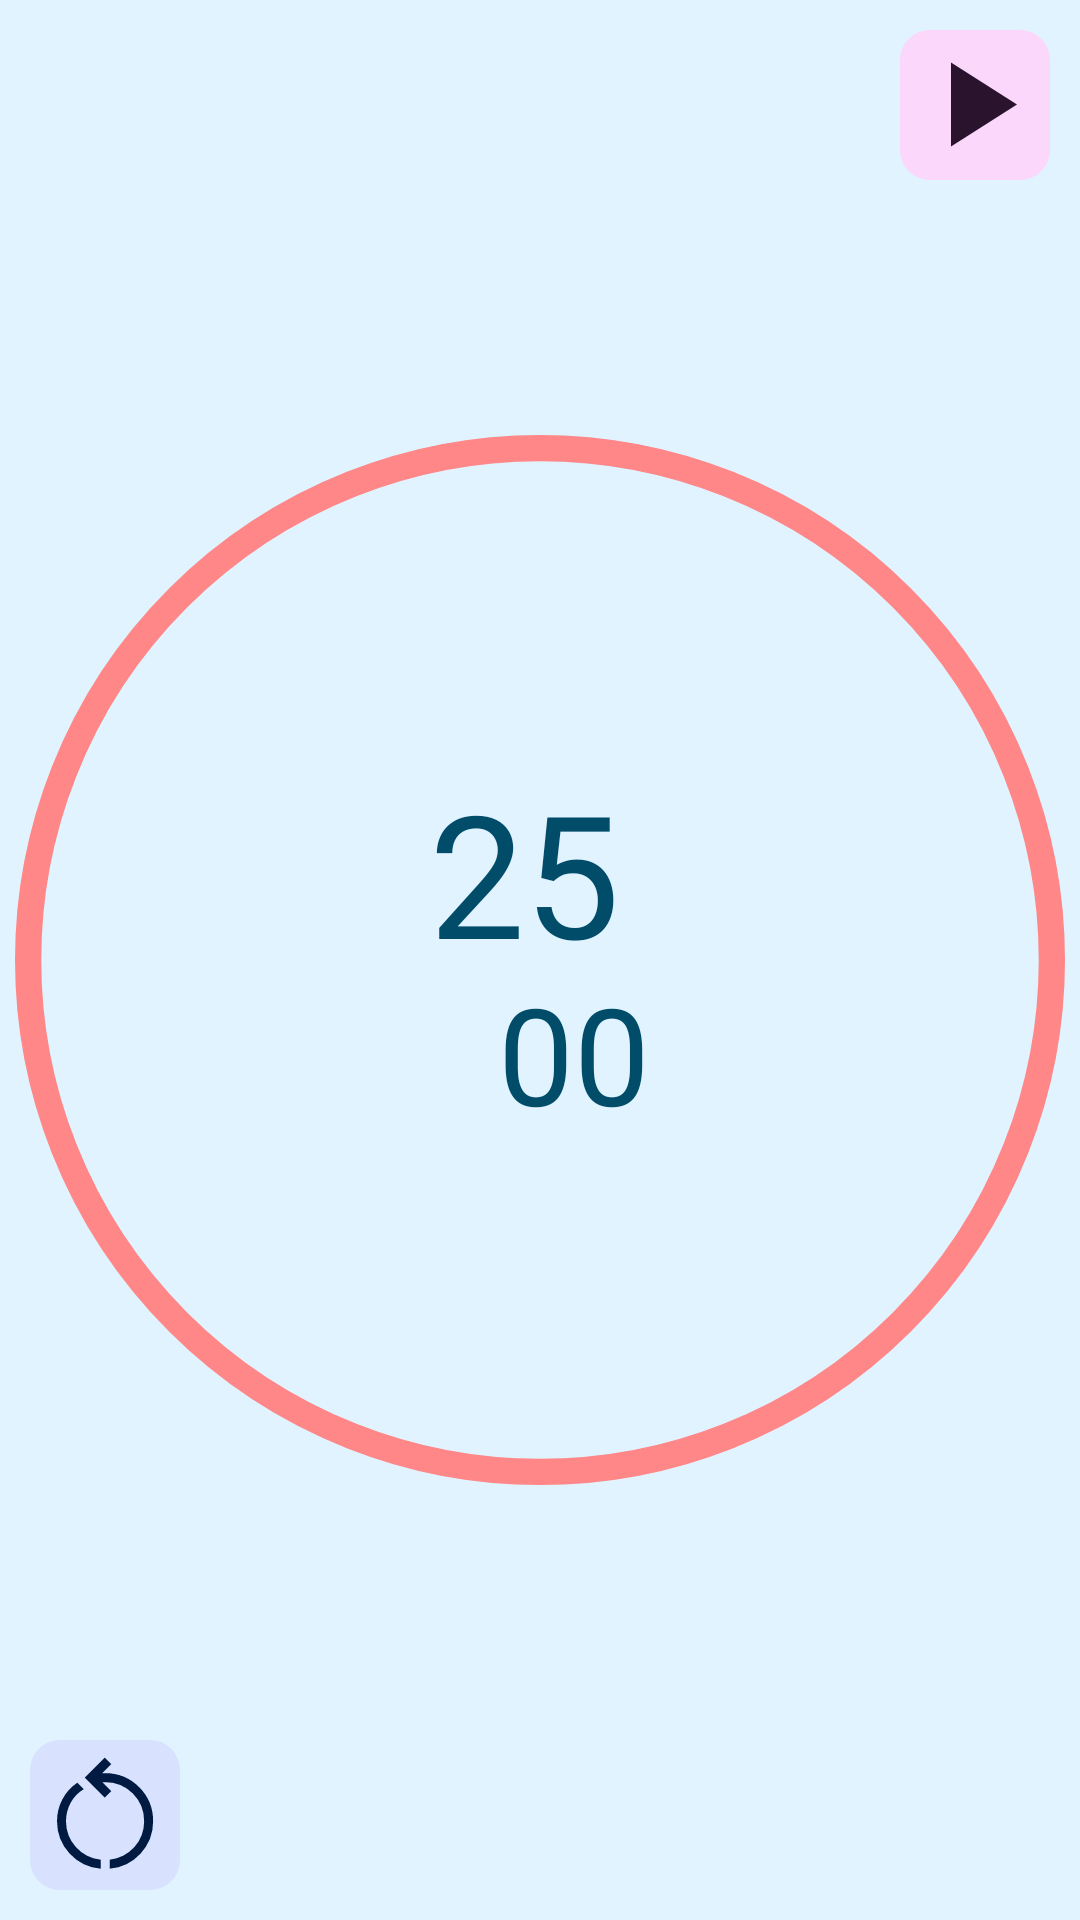

Where icons sit on this 1080×1920 app screen, as {"x1": x1, "y1": y1, "x2": x2, "y2": y2}:
Resets the current timer: {"x1": 30, "y1": 1740, "x2": 180, "y2": 1890}
Starts the timer if not started, or toggles play/pause: {"x1": 900, "y1": 30, "x2": 1050, "y2": 180}
